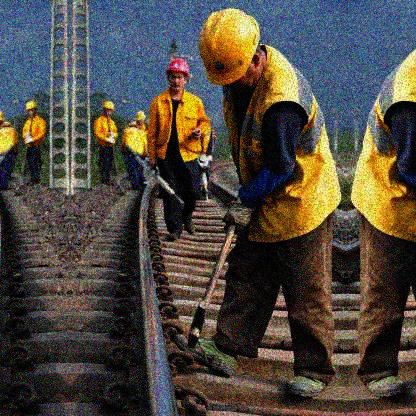helmet: (199, 8, 265, 92), (165, 58, 190, 91), (24, 101, 38, 118), (103, 101, 115, 117), (136, 111, 145, 126), (3, 121, 12, 130), (128, 122, 137, 130)
